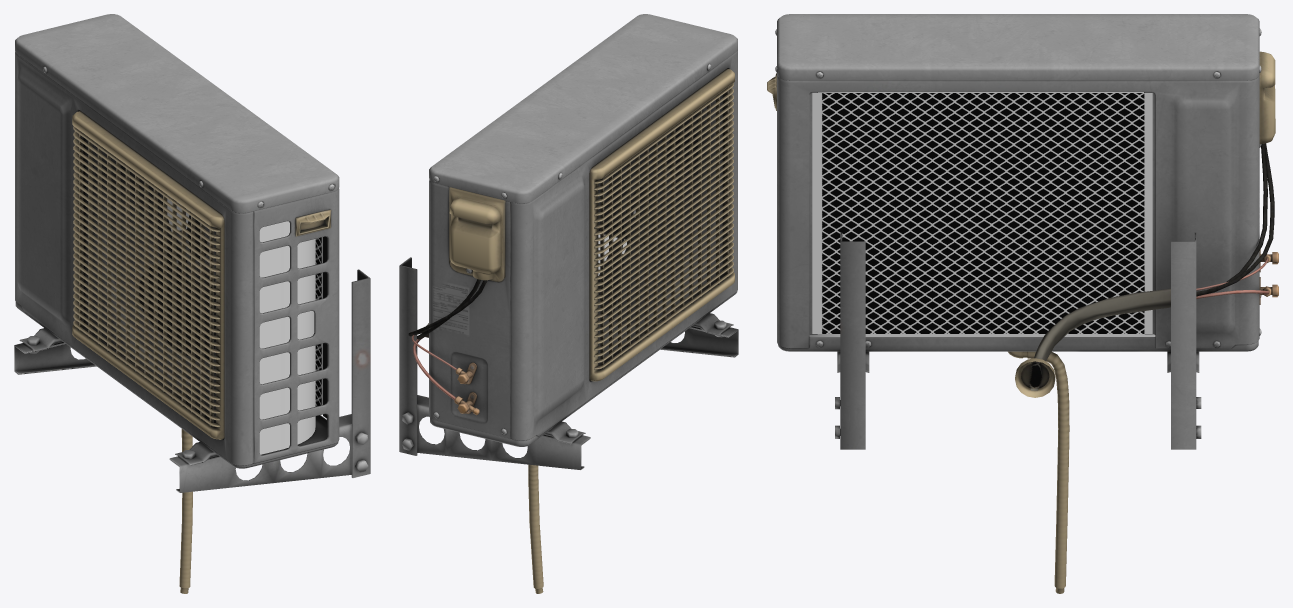
The model's file is exterior_aircon_unit__exterior_aircon_unit.obj.
The picture shows the model from 3 angles, left to right: view 1: azimuth 30°, elevation 25°; view 2: azimuth 150°, elevation 25°; view 3: azimuth 270°, elevation 25°; orthographic projection. The views are drawn at different scales.
Visible parts, largest first — view 1: exterior_aircon_unit; view 2: exterior_aircon_unit; view 3: exterior_aircon_unit.
Part boxes in pixels (x1=…): exterior_aircon_unit: x1=14, y1=14, x2=370, y2=593; exterior_aircon_unit: x1=399, y1=14, x2=738, y2=593; exterior_aircon_unit: x1=767, y1=14, x2=1278, y2=593.
Size of the model in its own units: 0.3742 by 0.9279 by 0.8.
2 materials, 2 textured.
